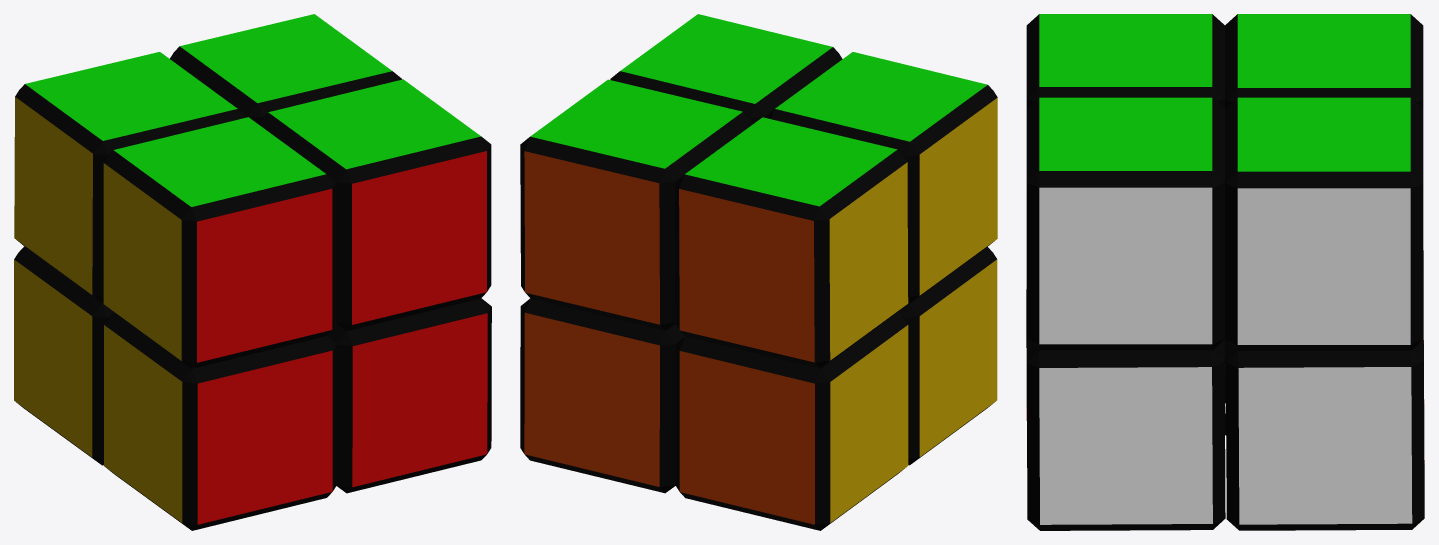
The picture shows the model from 3 angles, left to right: view 1: azimuth 30°, elevation 25°; view 2: azimuth 150°, elevation 25°; view 3: azimuth 270°, elevation 25°; orthographic projection. The views are drawn at different scales.
Parts seen in each view (by area): view 1: Block68, Block59, Block67, Block72, Block50, Block46, Block69; view 2: Block72, Block46, Block69, Block68, Block52, Block59, Block67; view 3: Block69, Block67, Block50, Block52, Block68, Block72.
Boxes of the visible parts, bbox=[...] form: Block68: bbox=[103, 117, 336, 368]; Block59: bbox=[104, 312, 336, 530]; Block67: bbox=[259, 79, 491, 331]; Block72: bbox=[14, 52, 247, 303]; Block50: bbox=[327, 298, 491, 493]; Block46: bbox=[14, 246, 113, 465]; Block69: bbox=[170, 14, 402, 124]; Block72: bbox=[675, 117, 908, 368]; Block46: bbox=[675, 312, 908, 530]; Block69: bbox=[520, 79, 752, 330]; Block68: bbox=[765, 52, 997, 303]; Block52: bbox=[520, 298, 685, 493]; Block59: bbox=[898, 247, 997, 465]; Block67: bbox=[610, 14, 842, 123]; Block69: bbox=[1225, 97, 1423, 350]; Block67: bbox=[1026, 97, 1224, 350]; Block50: bbox=[1026, 289, 1225, 530]; Block52: bbox=[1225, 288, 1424, 530]; Block68: bbox=[1026, 14, 1224, 108]; Block72: bbox=[1225, 14, 1423, 108].
Size of the model in its own units: 103 by 103 by 104.
